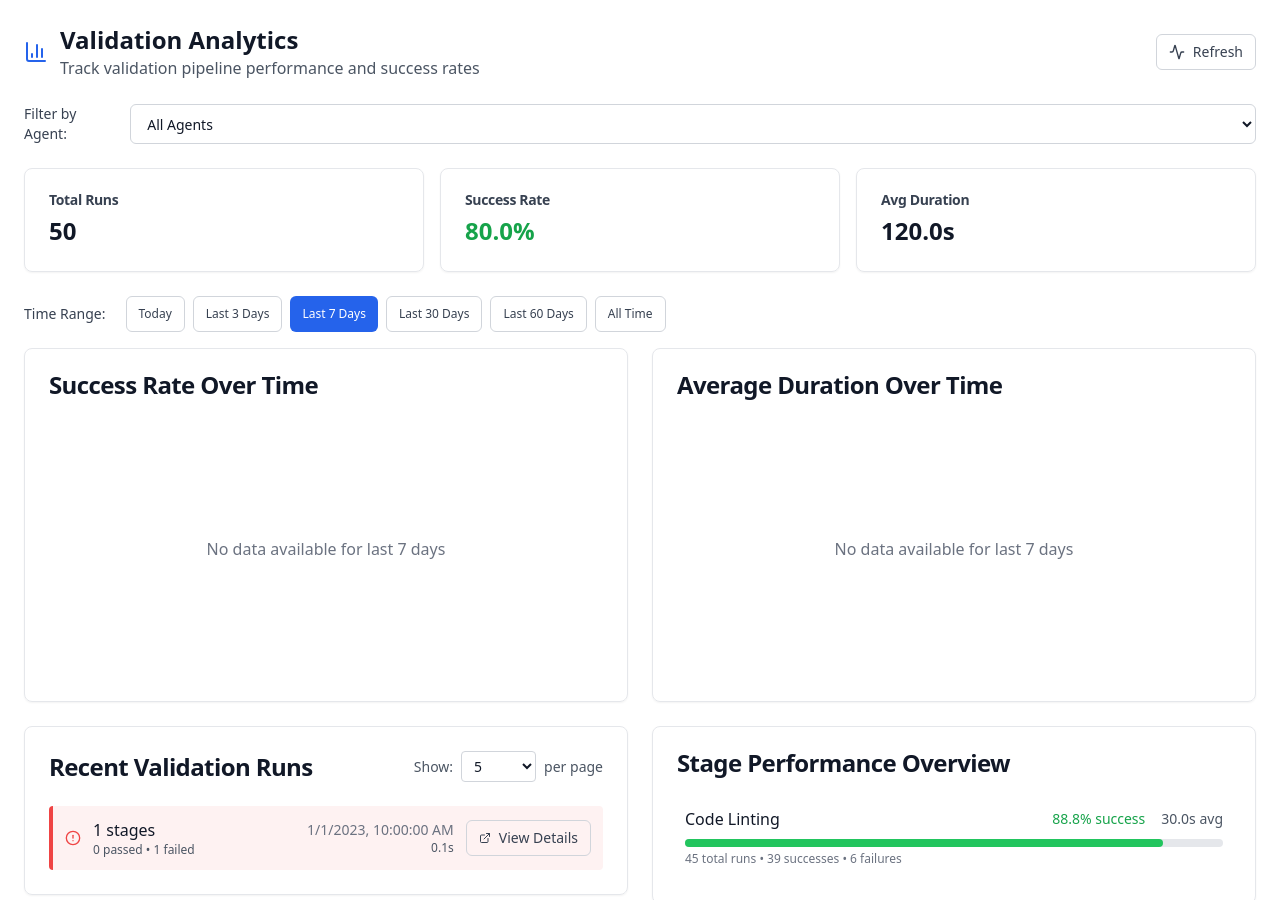
Scenario: Analytics Component › shows expanded run details when run is clicked
Expected: the text "1 stages" is shown, [93,819,155,841]
Click the text "1 stages".
click(144, 838)  # box [93,818,195,858]
(page scrolled)
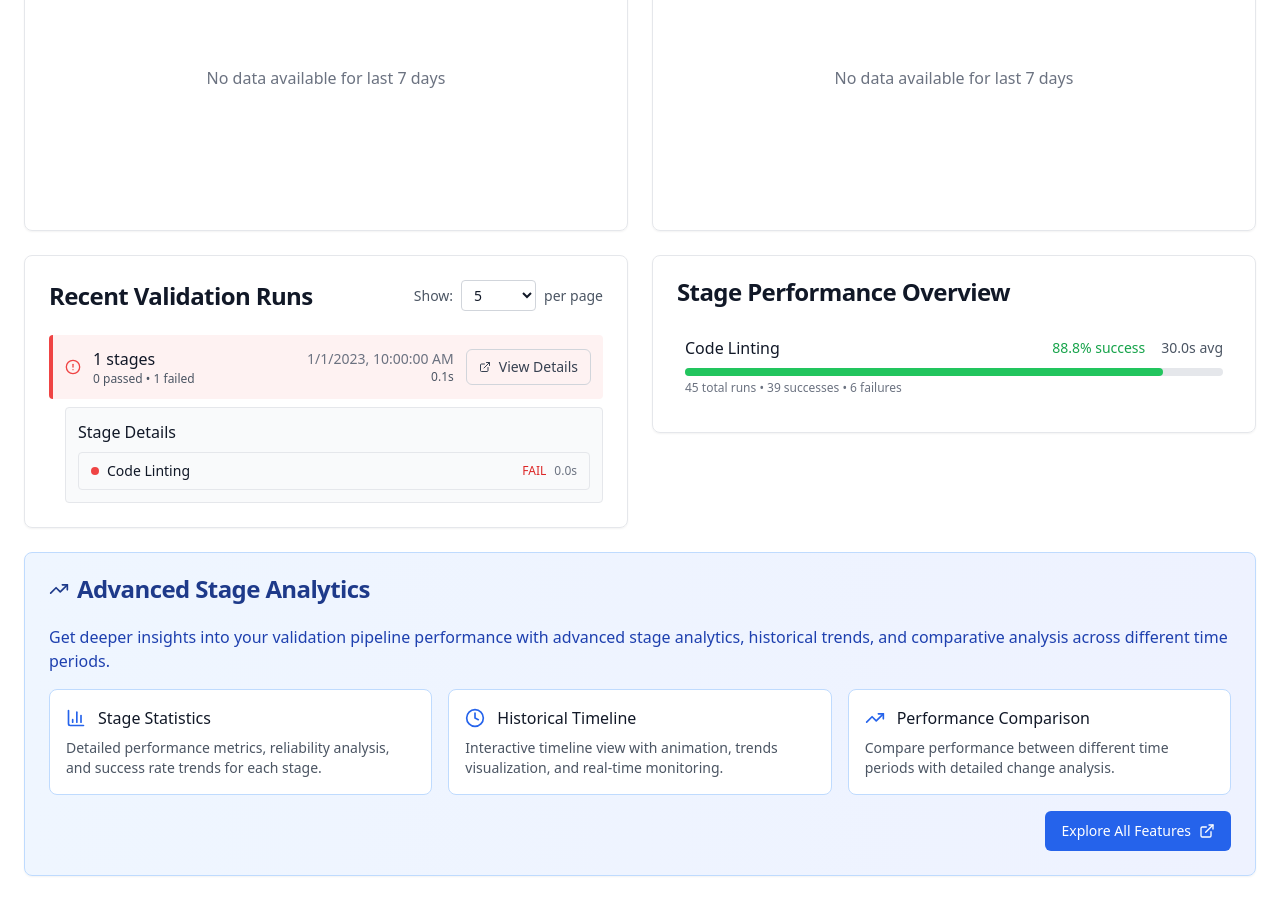
Expected: the heading "Stage Details" is shown, [78,421,176,443]
Expected: the text "Code Linting" below "Stage Details" is shown, [107,461,190,480]
